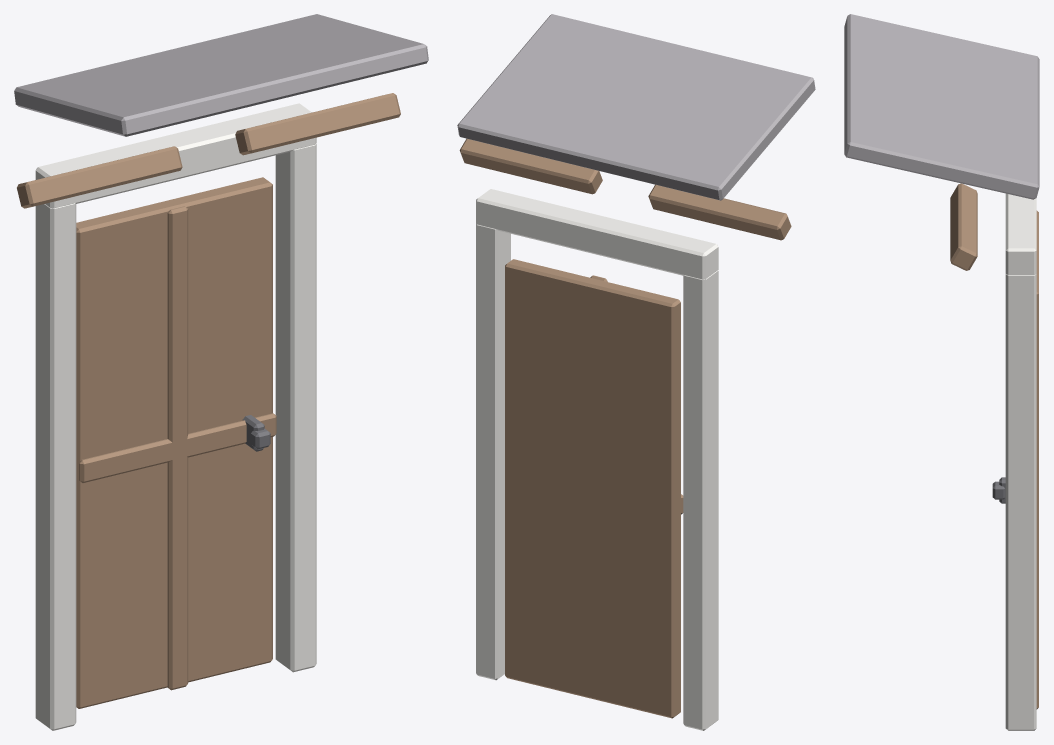
The model's file is SM_Door_Front.fbx.
3 renders of one model, left to right at view 1: azimuth 30°, elevation 25°; view 2: azimuth 150°, elevation 25°; view 3: azimuth 270°, elevation 25°, orthographic. The views are drawn at different scales.
Visible parts, largest first — view 1: Door_Front; view 2: Door_Front; view 3: Door_Front.
Part boxes in pixels (x1,y1,x2,y2): Door_Front: (14,14,428,730); Door_Front: (457,14,815,730); Door_Front: (844,14,1039,730).
Size of the model in its own units: 170 by 299 by 88.68.
